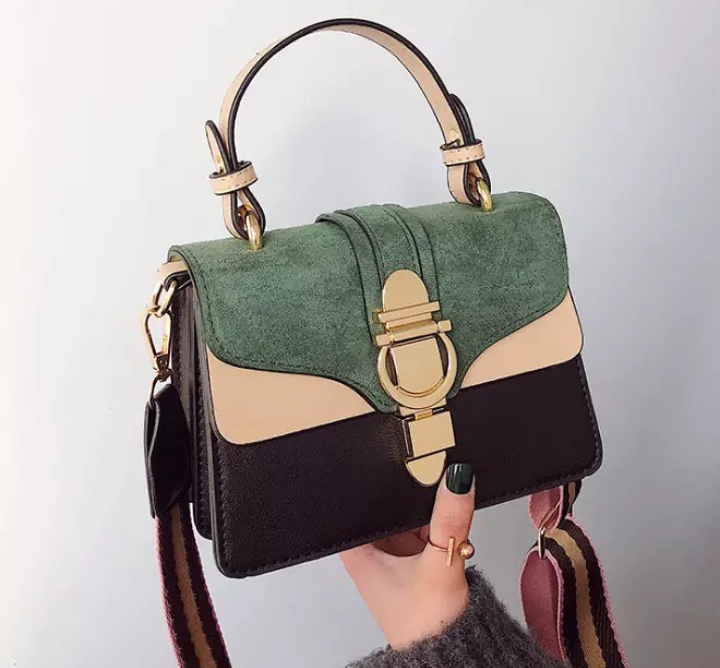cartera: (116, 8, 623, 586)
cuero: (272, 457, 349, 517)
